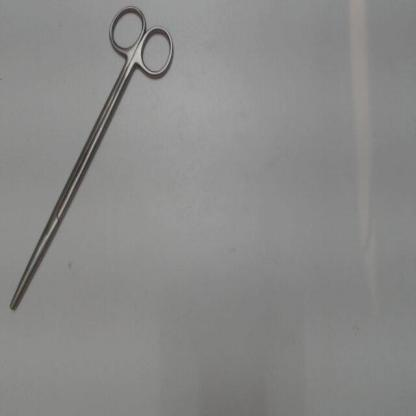9 Metzenbaum Scissors: (6, 1, 179, 314)
